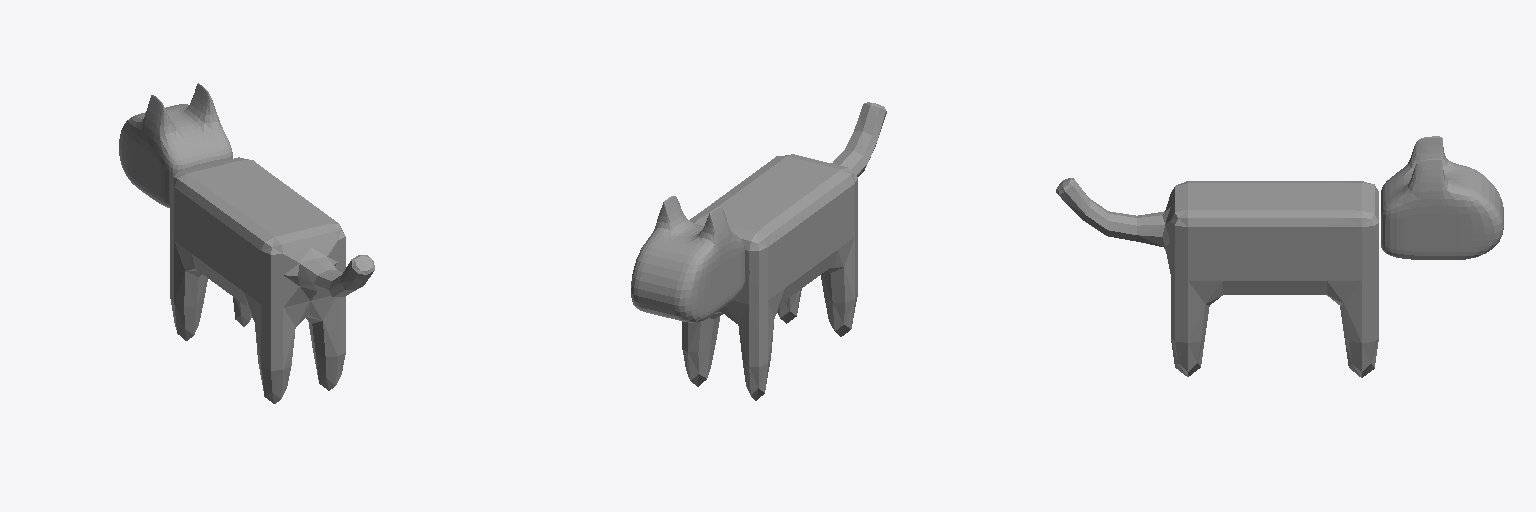
Rendered from cat.obj.
The picture shows the model from 3 angles: view 1: azimuth 30°, elevation 25°; view 2: azimuth 150°, elevation 25°; view 3: azimuth 270°, elevation 25°; orthographic projection.
Parts seen in each view (by area): view 1: Cube.001; view 2: Cube.001; view 3: Cube.001.
Boxes of the visible parts, <box> form: Cube.001: <box>119,83,374,403</box>; Cube.001: <box>631,102,886,400</box>; Cube.001: <box>1056,136,1503,377</box>.
Bounding box in the file's own units: 0.8263 × 2.09 × 3.92.